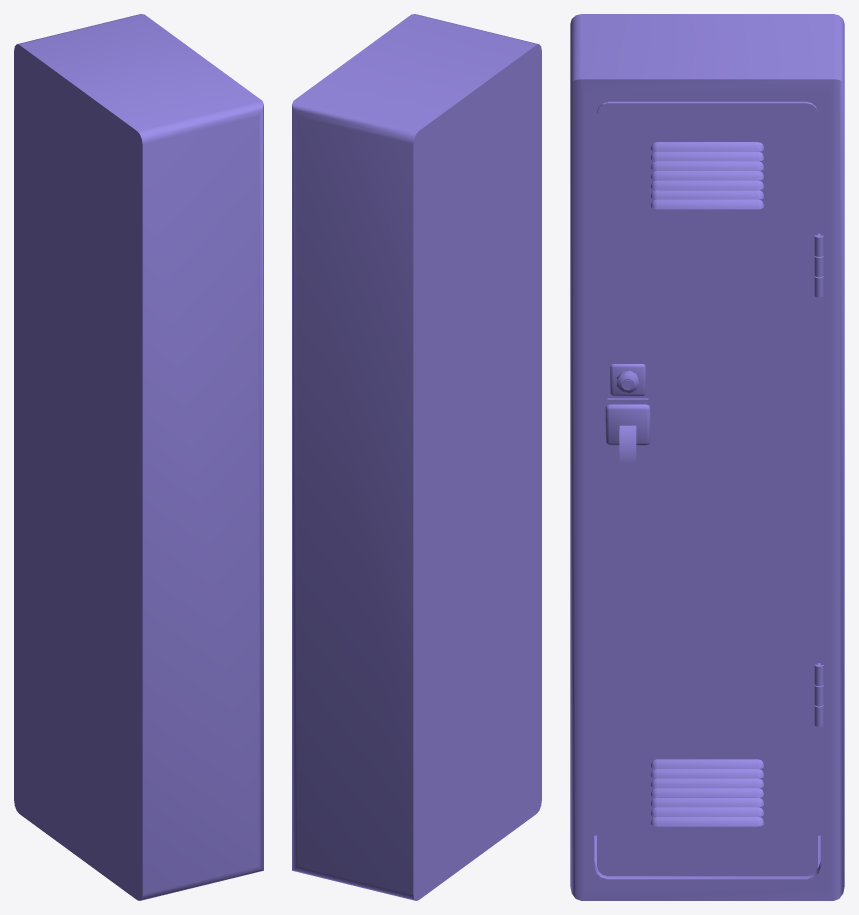
Rendered from Locker Closed.fbx.
3 renders of one model, left to right at view 1: azimuth 30°, elevation 25°; view 2: azimuth 150°, elevation 25°; view 3: azimuth 270°, elevation 25°, orthographic. The views are drawn at different scales.
Parts seen in each view (by area): view 1: Cube.005; view 2: Cube.005; view 3: Cube.022, Cube.005, Cube.023, Cube.021, Cube.024, Plane.003, Cube.025, Cylinder.009, Cylinder.010.
Boxes of the visible parts, x1,y1,x2,y2 form: Cube.005: (14,14,263,900); Cube.005: (292,14,541,900); Cube.022: (597,101,817,876); Cube.005: (570,14,844,900); Cube.023: (650,759,763,826); Cube.021: (651,142,763,209); Cube.024: (605,404,650,445); Plane.003: (619,425,636,482); Cube.025: (610,364,645,395); Cylinder.009: (814,233,823,297); Cylinder.010: (814,663,823,726).
Bounding box in the file's own units: 45.32 × 242 × 73.19.
